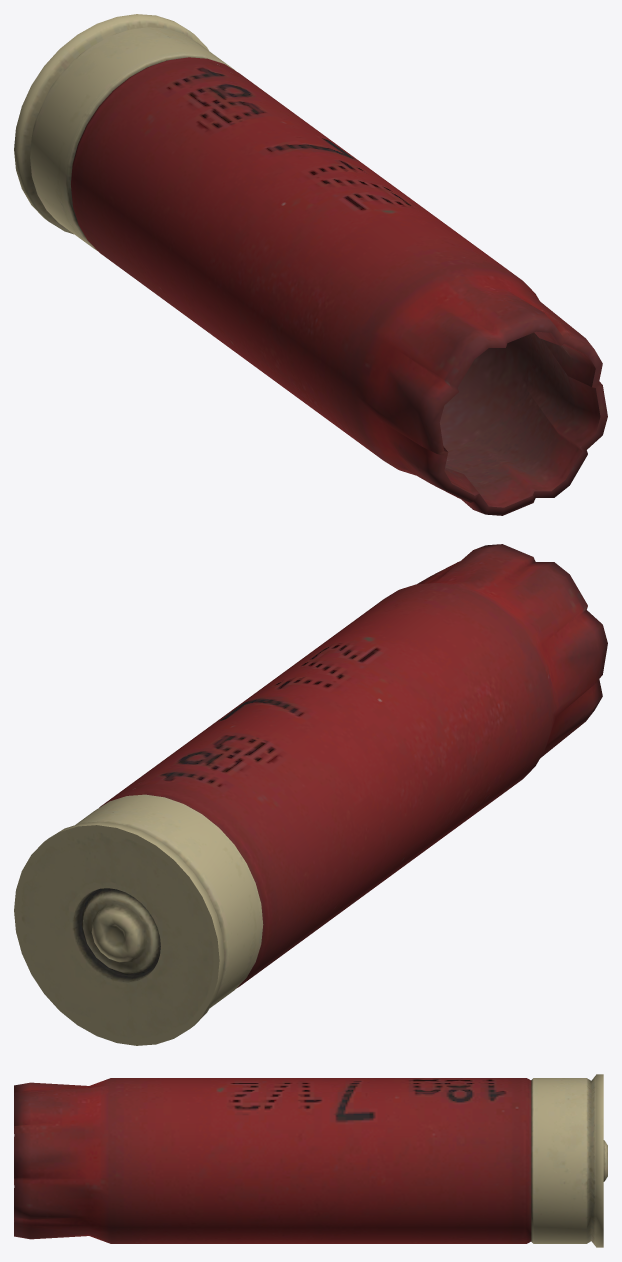
The model's file is casing_xm1014_casing.glb.
3 renders of one model, top to bottom at view 1: azimuth 30°, elevation 25°; view 2: azimuth 150°, elevation 25°; view 3: azimuth 270°, elevation 25°, orthographic. The views are drawn at different scales.
Visible parts, largest first — view 1: casing_xm1014_casing; view 2: casing_xm1014_casing; view 3: casing_xm1014_casing.
Boxes of the visible parts, x1,y1,x2,y2 form: casing_xm1014_casing: (14,14,607,515); casing_xm1014_casing: (14,544,607,1045); casing_xm1014_casing: (14,1074,607,1247).
Size of the model in its own units: 0.0177 by 0.0177 by 0.0606.
1 material, 1 textured.
